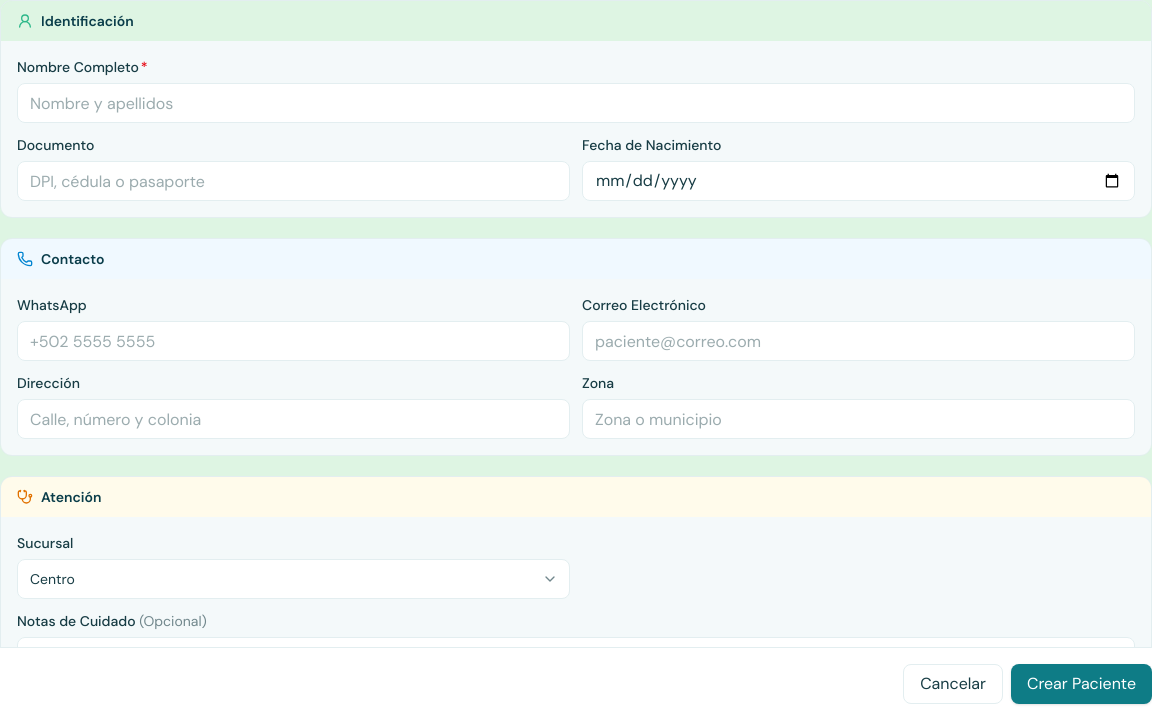
Test: PatientForm › pinta los errores por campo devueltos por la API con 400
This screenshot has width=1164, height=720.
In the field labelled "Nombre Completo": x=576, y=103 top-left (17, 83), bottom-right (1135, 123), type "Paciente Demo"
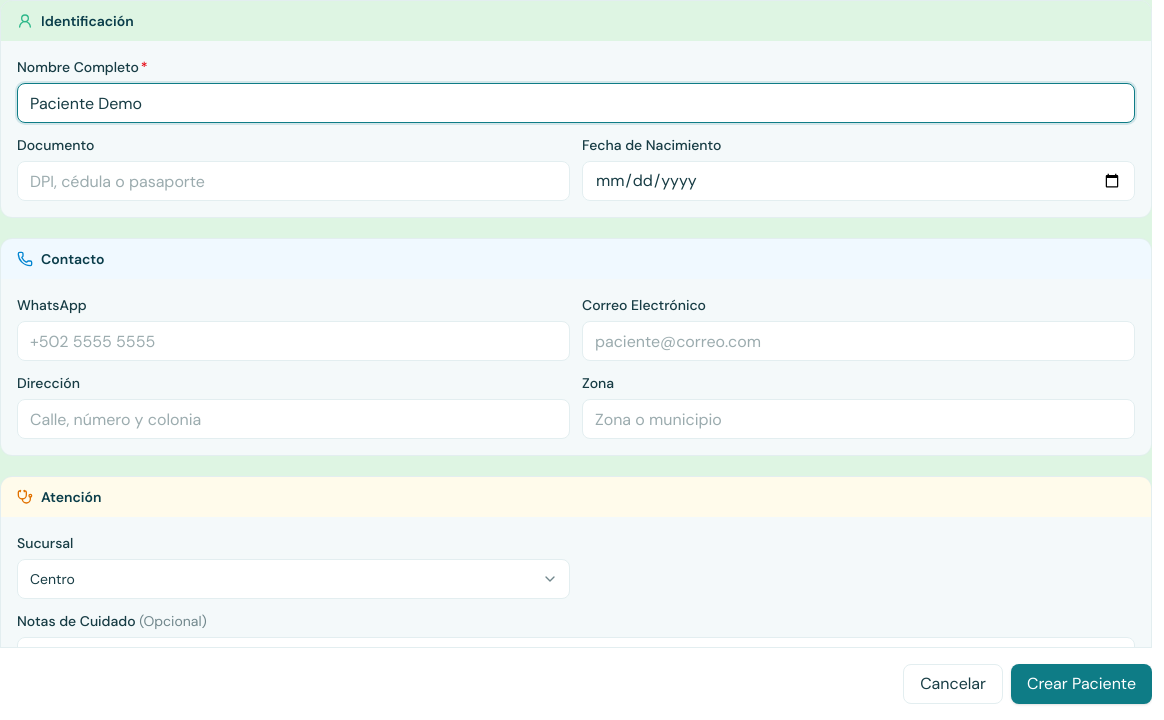
Click the button "Crear Paciente": x=1081, y=684 top-left (1011, 664), bottom-right (1152, 704)
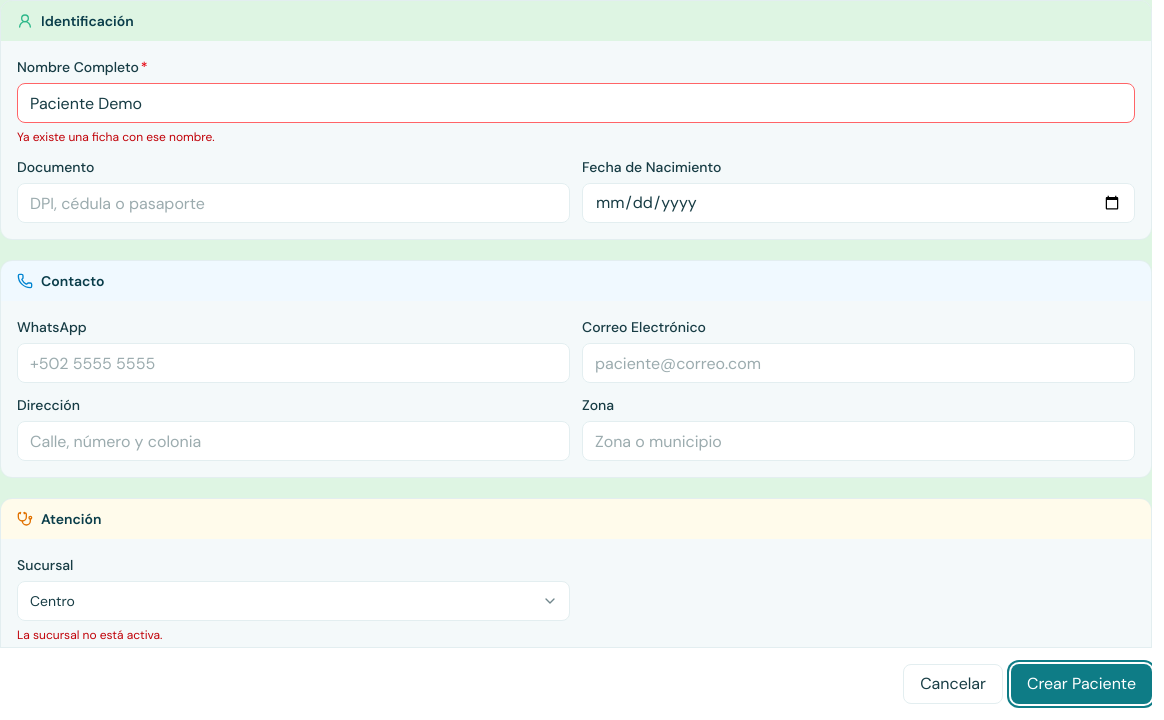
Check: the text "Ya existe una ficha con ese nombre." is shown, box top-left (17, 129), bottom-right (215, 145)
Check: the text "La sucursal no está activa." is shown, box top-left (17, 627), bottom-right (162, 643)
